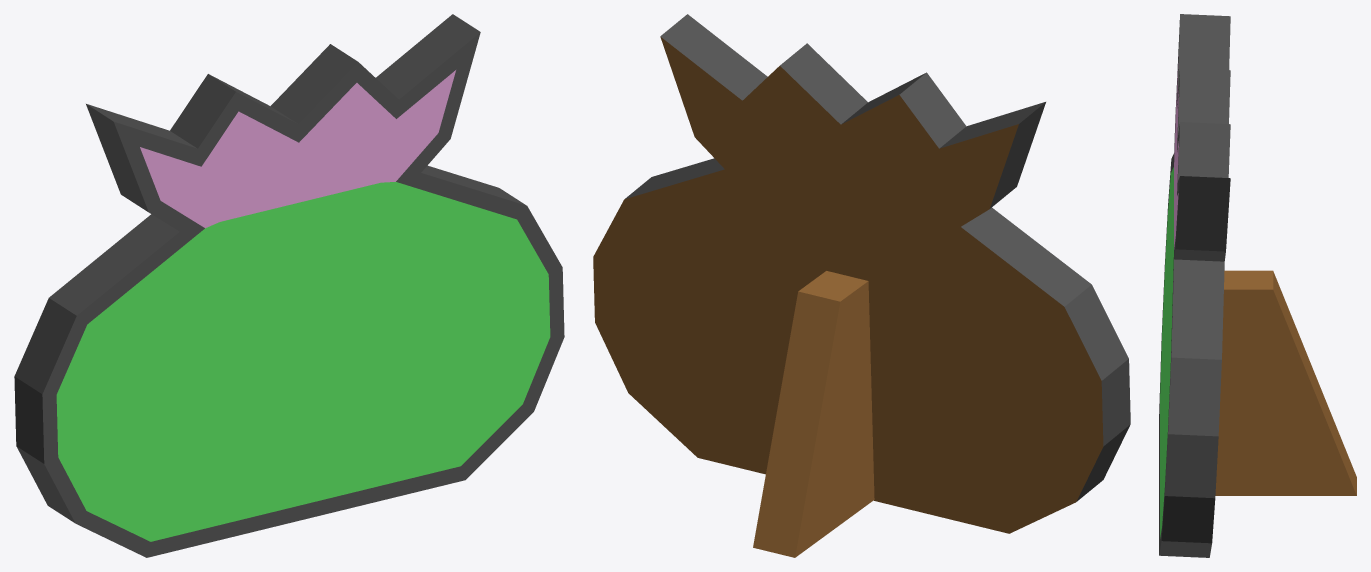
File: cutoutShortCactus.fbx
3 renders of one model, left to right at view 1: azimuth 30°, elevation 25°; view 2: azimuth 150°, elevation 25°; view 3: azimuth 270°, elevation 25°, orthographic. The views are drawn at different scales.
Parts seen in each view (by area): view 1: Cutout Short Cactus; view 2: Cutout Short Cactus; view 3: Cutout Short Cactus.
Part boxes in pixels (<box>): Cutout Short Cactus: <box>14,14,564,557</box>; Cutout Short Cactus: <box>593,14,1130,557</box>; Cutout Short Cactus: <box>1159,14,1356,557</box>.
Size of the model in its own units: 94.55 by 34.42 by 75.64.
